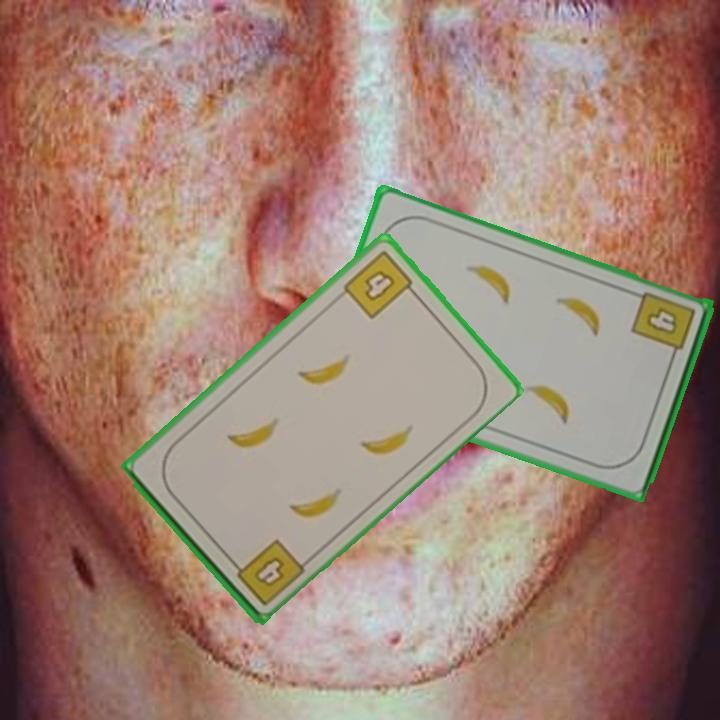4b: (339, 246, 421, 322), (226, 535, 308, 609), (627, 288, 698, 364)
